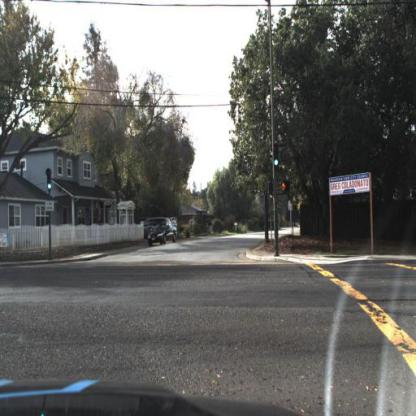car: (148, 221, 182, 248)
trafficLight: (46, 168, 55, 195)
trafficLight-Green: (273, 144, 282, 172)
